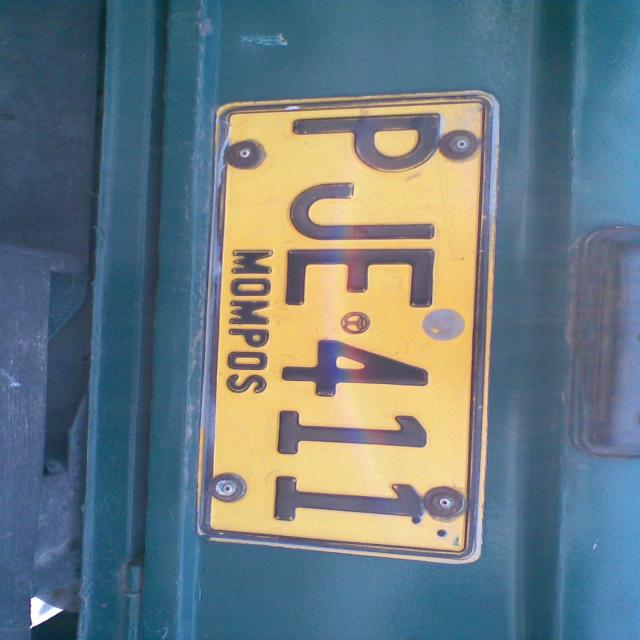placa: (186, 84, 515, 574)
